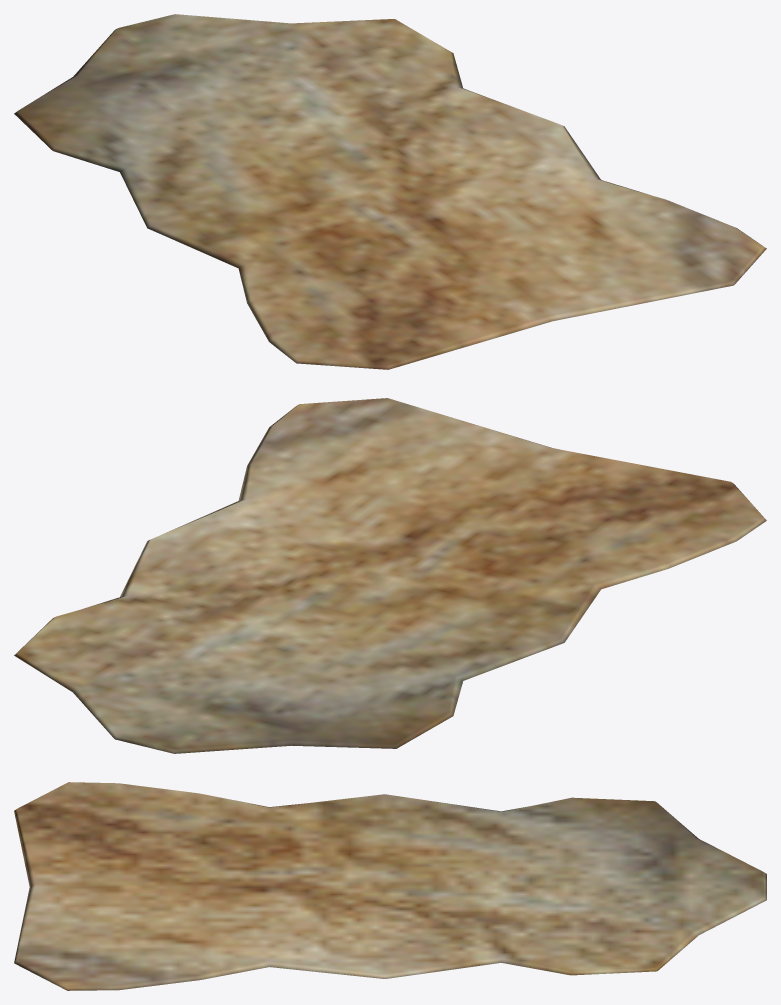
Rendered from MS_Pelt_1.fbx.
The picture shows the model from 3 angles, top to bottom: view 1: azimuth 30°, elevation 25°; view 2: azimuth 150°, elevation 25°; view 3: azimuth 270°, elevation 25°; orthographic projection. The views are drawn at different scales.
Parts seen in each view (by area): view 1: MAT_Pelt; view 2: MAT_Pelt; view 3: MAT_Pelt.
Boxes of the visible parts, x1,y1,x2,y2 form: MAT_Pelt: [14, 14, 766, 369]; MAT_Pelt: [14, 398, 766, 753]; MAT_Pelt: [14, 782, 766, 990].
Size of the model in its own units: 85.77 by 0.5409 by 132.
